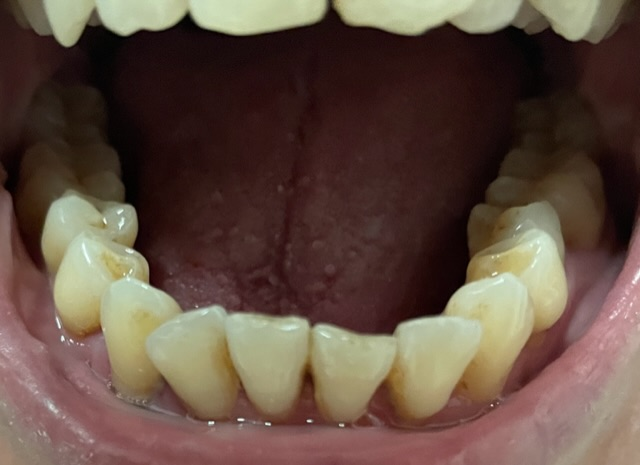teeth: (54, 237, 143, 332), (147, 308, 226, 411), (322, 328, 389, 419), (486, 229, 561, 310), (470, 281, 525, 382), (412, 327, 474, 411), (108, 288, 157, 393), (235, 316, 294, 399), (511, 157, 588, 205), (47, 150, 109, 194), (62, 204, 132, 233), (481, 208, 549, 237), (358, 0, 434, 23), (205, 6, 287, 25), (538, 101, 585, 127), (52, 97, 90, 124), (115, 7, 175, 23)
